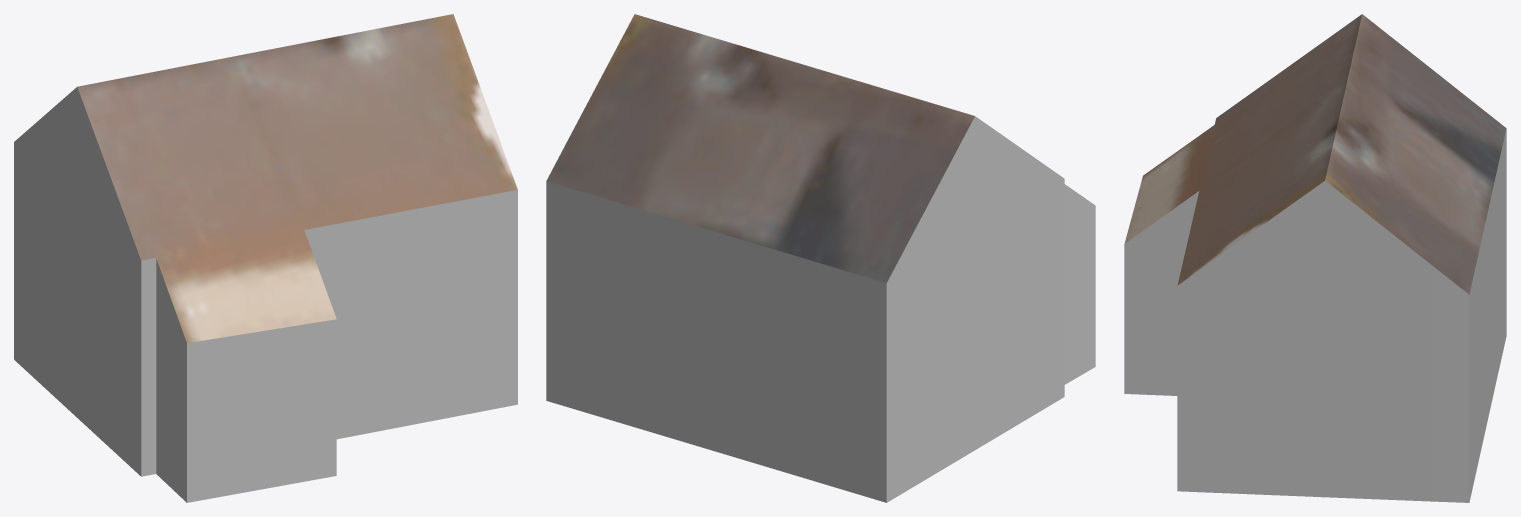
File: DEBW_0010007Txdb.gltf
3 views of the same model, side by side, from view 1: azimuth 30°, elevation 25°; view 2: azimuth 150°, elevation 25°; view 3: azimuth 270°, elevation 25° (orthographic). The views are drawn at different scales.
Parts seen in each view (by area): view 1: Z_UP; view 2: Z_UP; view 3: Z_UP.
Part boxes in pixels (x1=…): Z_UP: x1=14, y1=14, x2=517, y2=502; Z_UP: x1=546, y1=14, x2=1095, y2=502; Z_UP: x1=1124, y1=14, x2=1506, y2=502.
Bounding box in the file's own units: 12.71 × 10.55 × 11.53.
Materials: 2 (1 with a texture image).
